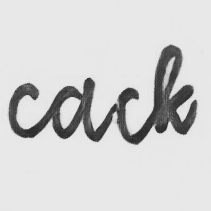a: (49, 75, 99, 143)
c: (7, 82, 43, 141), (112, 85, 143, 145)
k: (150, 42, 199, 137)
